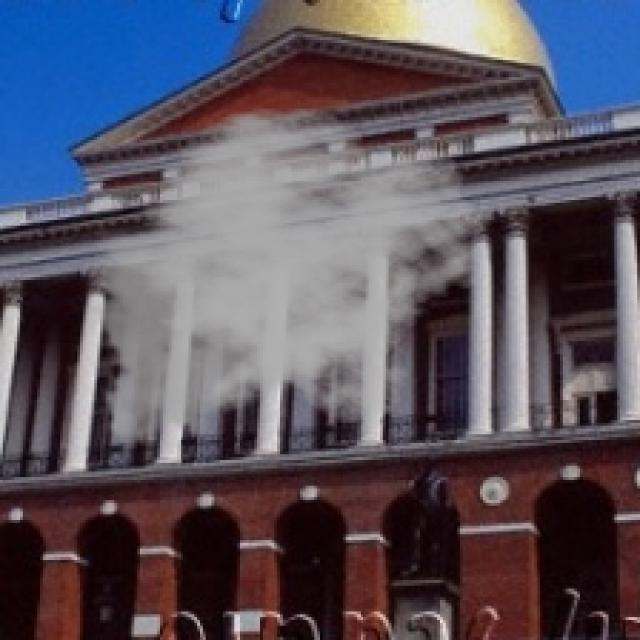smoke: (80, 106, 500, 460)
